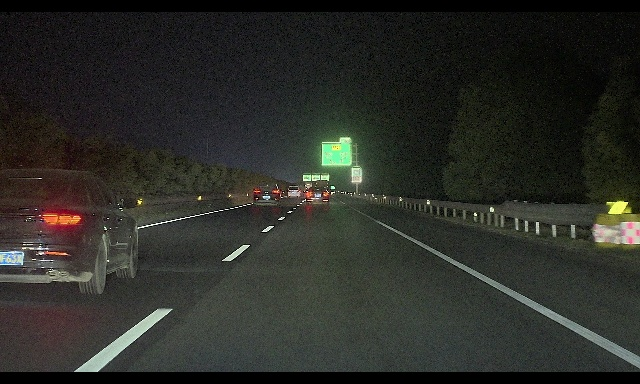car: (0, 168, 138, 294), (253, 183, 282, 207), (305, 187, 330, 205), (287, 186, 301, 199)
truck: (315, 180, 329, 197)
